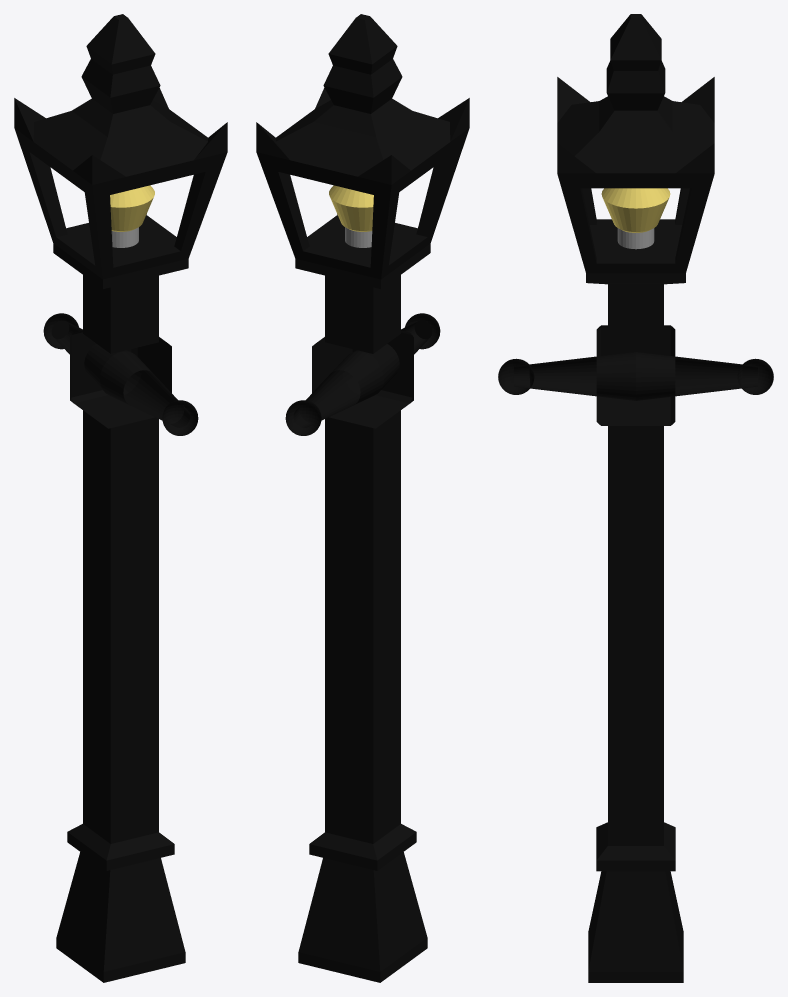
Rendered from Lamp_post.glb.
3 renders of one model, left to right at view 1: azimuth 30°, elevation 25°; view 2: azimuth 150°, elevation 25°; view 3: azimuth 270°, elevation 25°, orthographic.
Parts seen in each view (by area): view 1: Lamp Post Base-col, Light-col; view 2: Lamp Post Base-col, Light-col; view 3: Lamp Post Base-col, Light-col.
Boxes of the visible parts, bbox=[...] form: Lamp Post Base-col: bbox=[14, 14, 227, 982]; Light-col: bbox=[110, 185, 154, 247]; Lamp Post Base-col: bbox=[256, 14, 469, 982]; Light-col: bbox=[329, 185, 373, 247]; Lamp Post Base-col: bbox=[498, 14, 773, 982]; Light-col: bbox=[601, 188, 670, 249].
Bounding box in the file's own units: 2.15 × 14.26 × 3.77.
